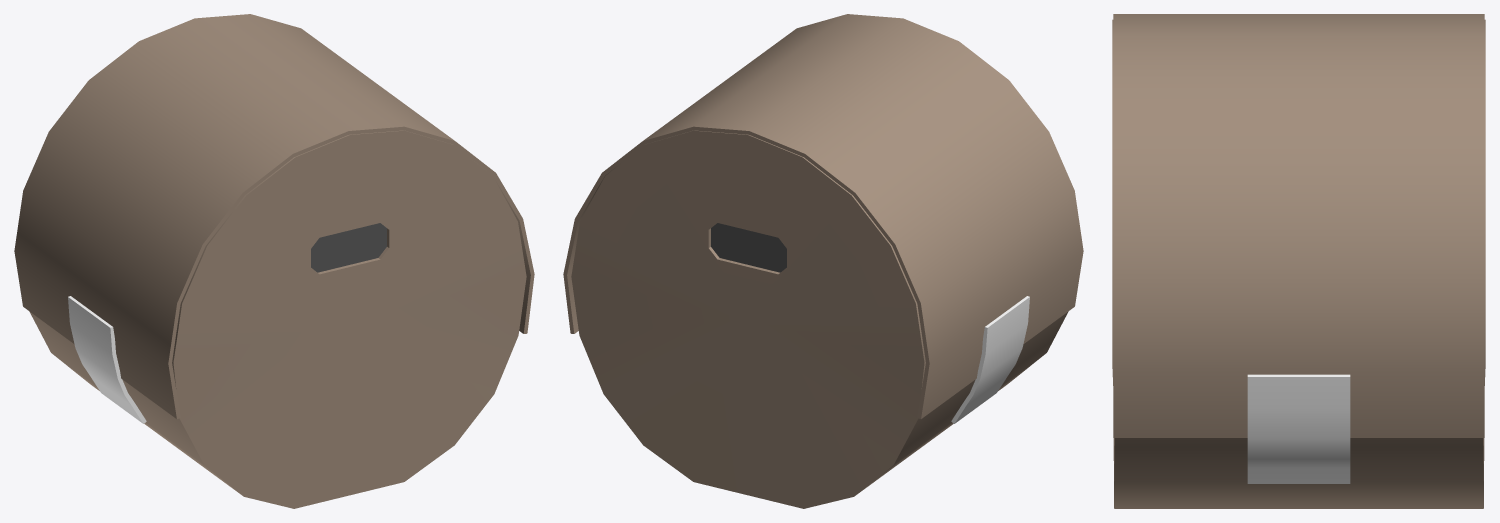
The model's file is CylinderPackage.fbx.
3 views of the same model, side by side, from view 1: azimuth 30°, elevation 25°; view 2: azimuth 150°, elevation 25°; view 3: azimuth 270°, elevation 25° (orthographic). The views are drawn at different scales.
Parts seen in each view (by area): view 1: polySurface16; view 2: polySurface16; view 3: polySurface16.
Boxes of the visible parts, x1,y1,x2,y2 form: polySurface16: [14, 14, 534, 508]; polySurface16: [563, 14, 1083, 508]; polySurface16: [1112, 14, 1485, 508].
Bounding box in the file's own units: 0.8692 × 0.814 × 0.6254.
